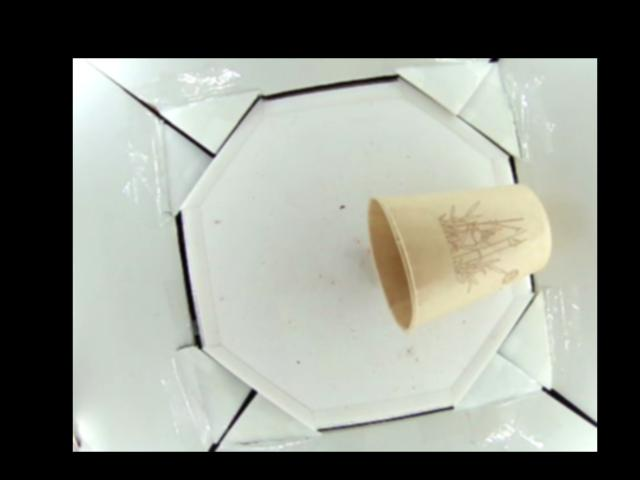Cup: (369, 183, 551, 329)
